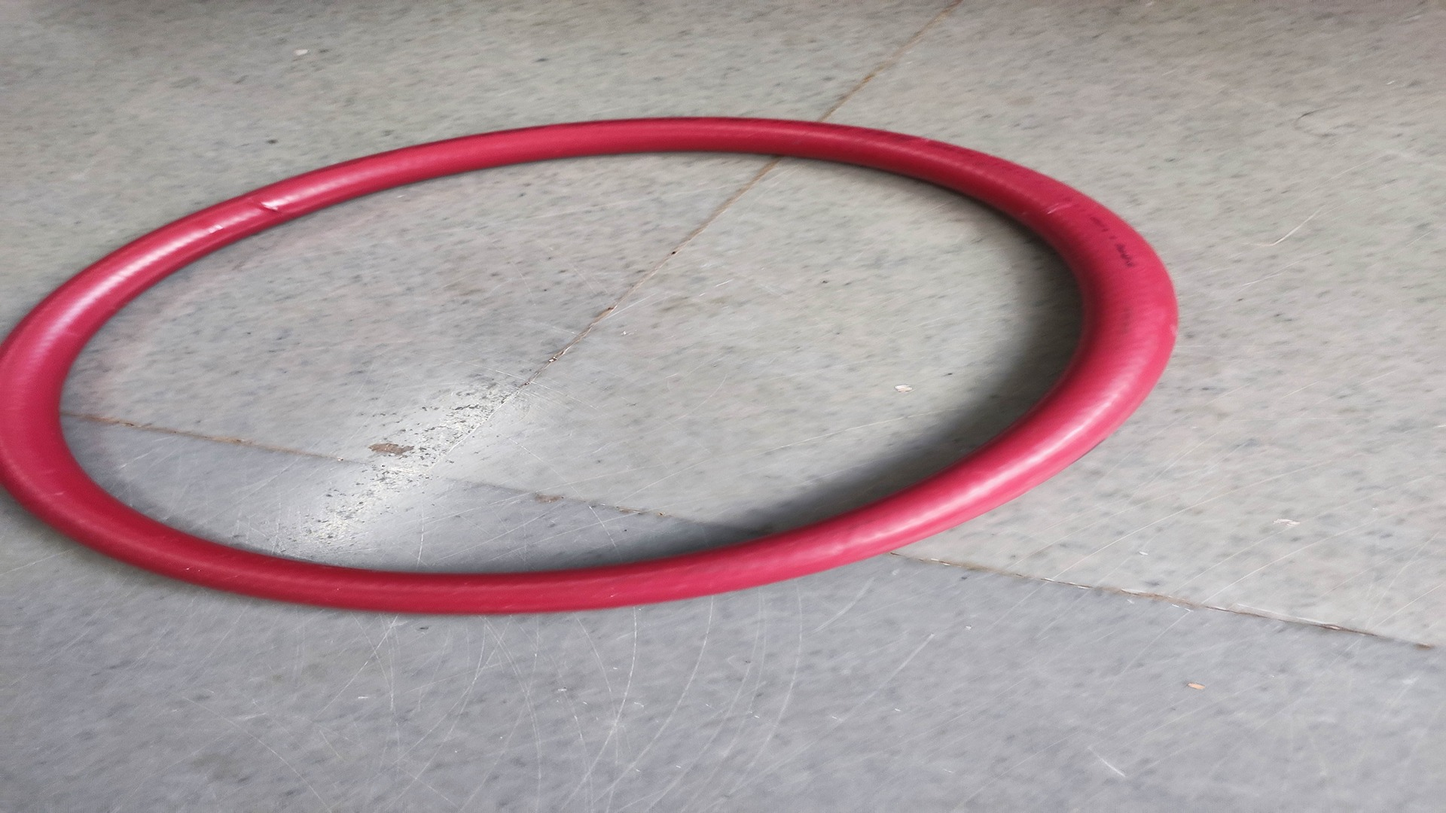Red ring: (8, 119, 1167, 608)
